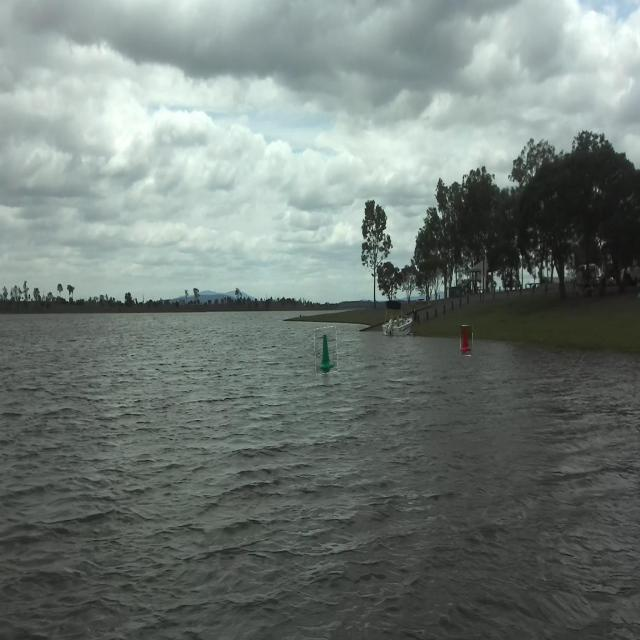Green_Buoy: (312, 325, 337, 378)
Red_Buoy: (462, 327, 473, 350)
